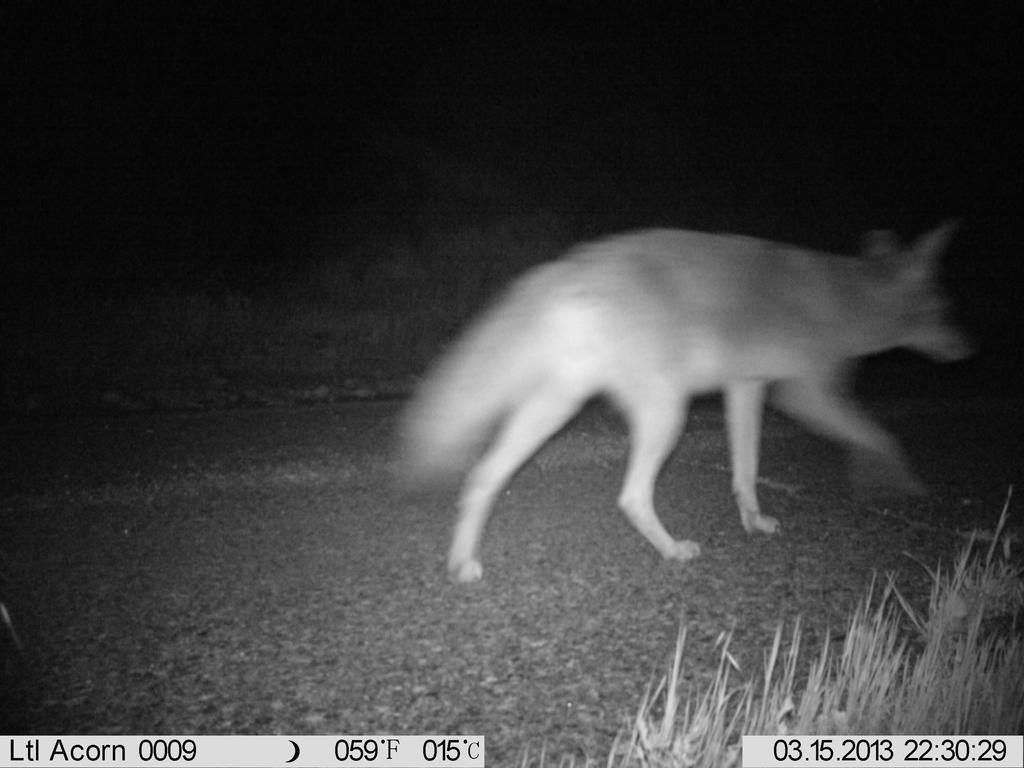coyote: (381, 208, 994, 597)
